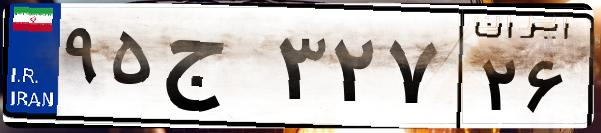2: (330, 28, 385, 110), (475, 38, 525, 113)
3: (270, 28, 330, 110)
5: (110, 28, 158, 98)
6: (525, 38, 570, 115)
7: (385, 28, 445, 110)
9: (57, 26, 110, 100)
ج: (158, 20, 270, 120)
